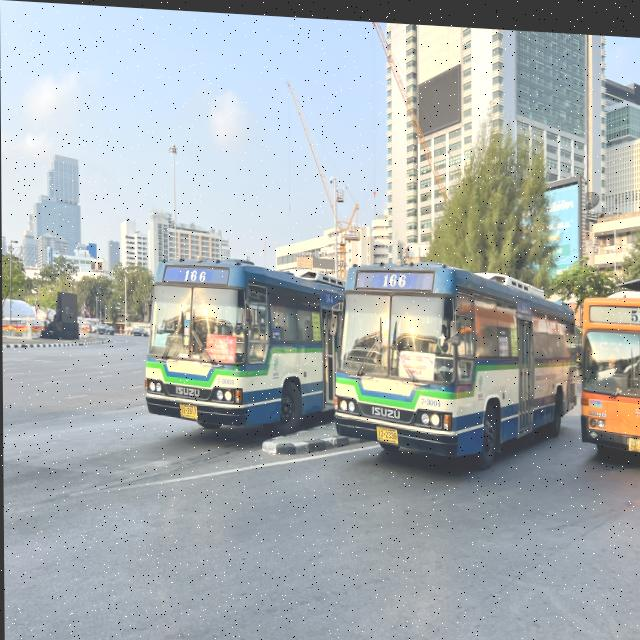BMTA-bus: (334, 253, 579, 470), (142, 254, 342, 436), (576, 272, 640, 461)
Bus-Line-Number: (379, 262, 409, 286), (180, 263, 210, 285), (629, 298, 640, 316)
Destination-Sign-Extra-Bus: (399, 345, 435, 379), (202, 328, 235, 362)
